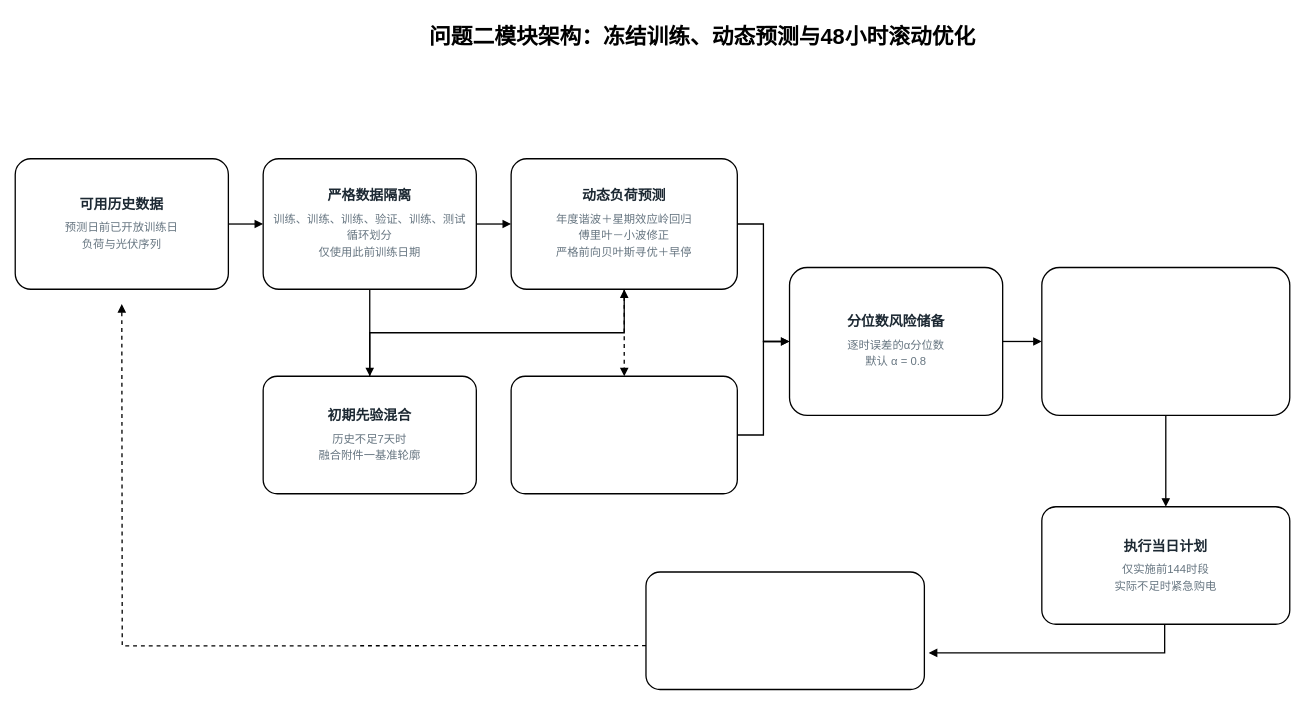
This 1306x705 diagram has some shape labels left out. The box of each missing label's shape, as (x1, y1, x2, y2) in pixels:
48小时滚动LP 当日＋次日共288时段 终端SOC回到初值: (1041, 266, 1290, 416)
训练集净负荷误差 参数化历史窗口 仅使用此前可用训练日: (510, 375, 738, 494)
记录结果并受控更新 训练日进入拟合与误差库 验证日仅更新寻优 测试日只作最终评价: (645, 571, 925, 690)
